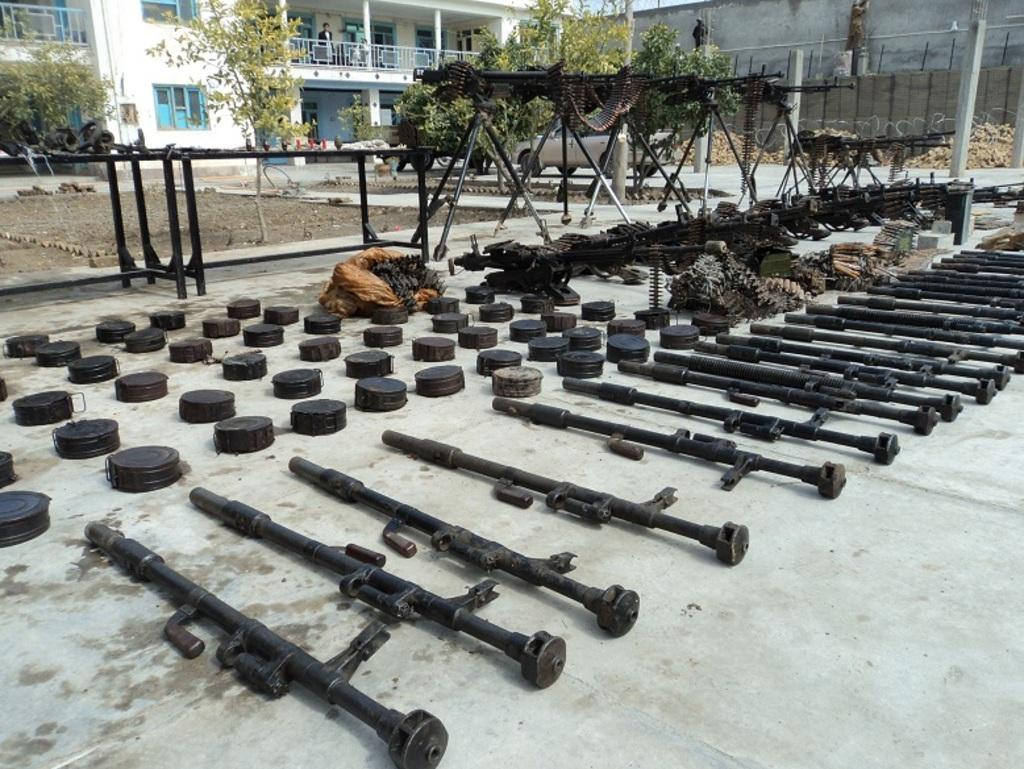Rifle: (411, 58, 854, 262), (449, 183, 932, 307), (771, 125, 954, 192), (970, 178, 1023, 208)
